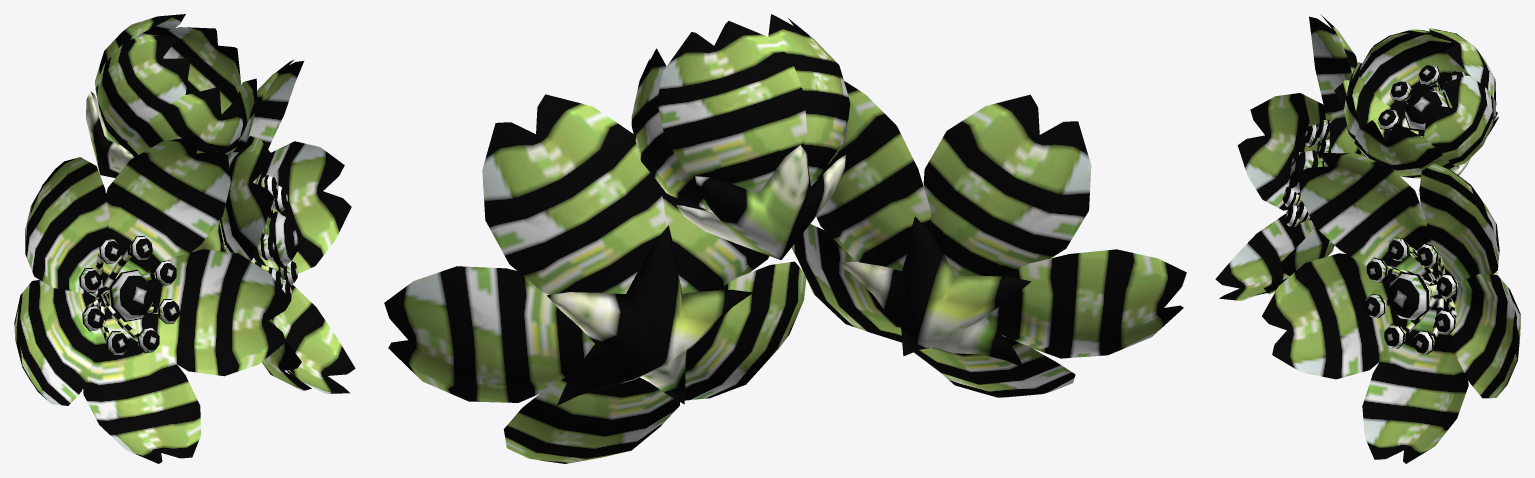
Rendered from pm0471_00_Rig.fbx.
3 renders of one model, left to right at view 1: azimuth 30°, elevation 25°; view 2: azimuth 150°, elevation 25°; view 3: azimuth 270°, elevation 25°, orthographic. The views are drawn at different scales.
Parts seen in each view (by area): view 1: doodad_spring_2023_flower; view 2: doodad_spring_2023_flower; view 3: doodad_spring_2023_flower.
Boxes of the visible parts, <box> form: doodad_spring_2023_flower: <box>14,14,355,463</box>; doodad_spring_2023_flower: <box>384,14,1186,463</box>; doodad_spring_2023_flower: <box>1215,14,1520,463</box>.
Bounding box in the file's own units: 0.1164 × 0.0923 × 0.0713.
